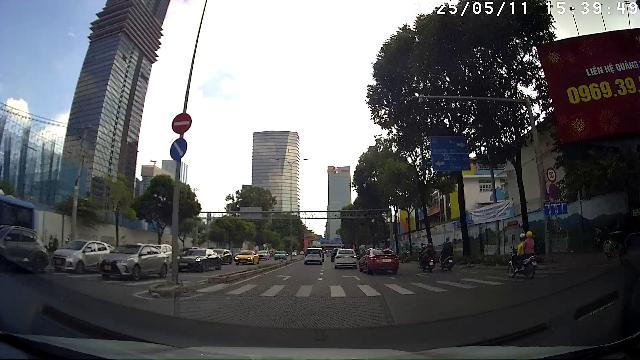102-cam-di-nguoc-chieu: (171, 113, 192, 134)
127-toc-do-toi-da-60: (546, 167, 557, 183)
130-cam-dung-va-do-xe: (548, 183, 560, 200)
302a-huong-phai-di-vong-chuong-ngai-vat-1: (169, 137, 188, 161)
